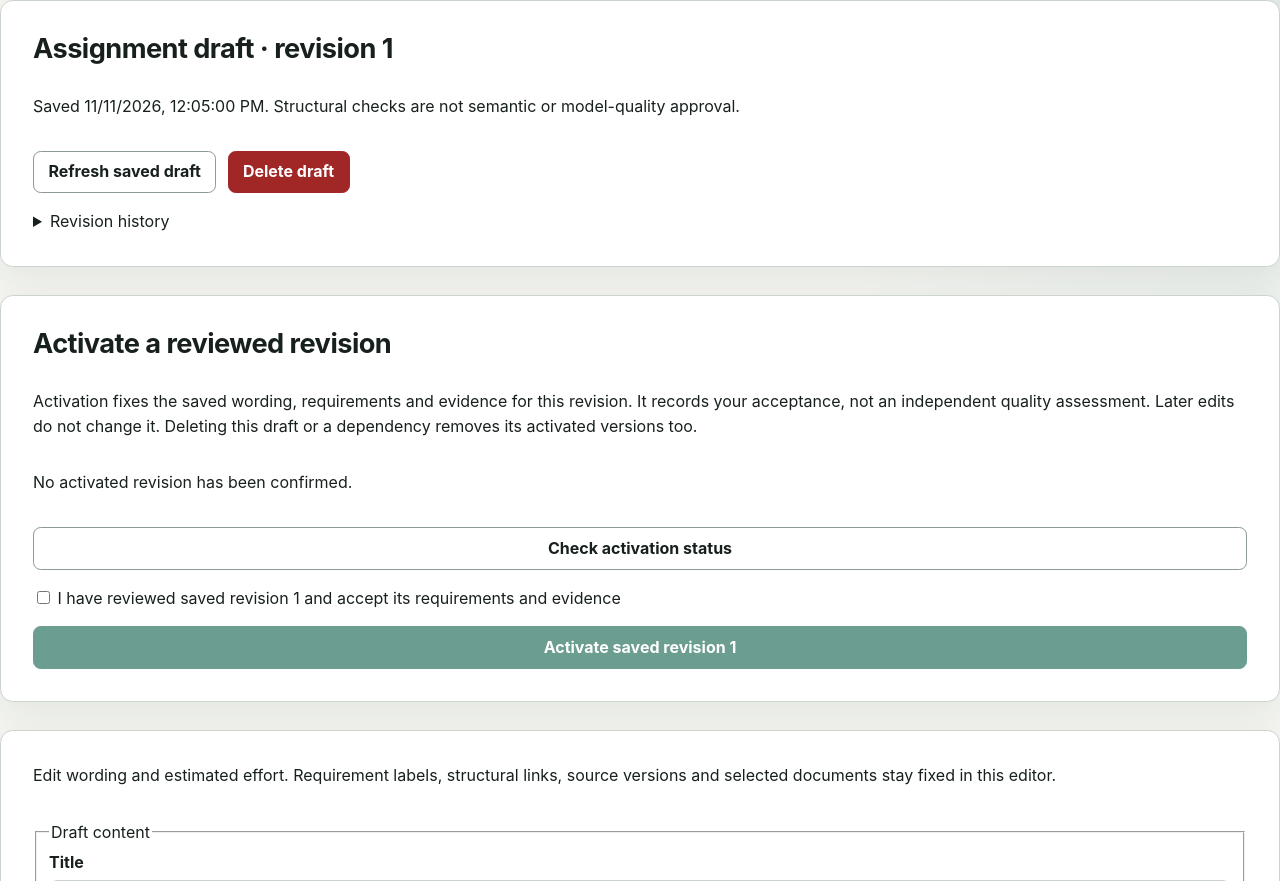
Test case: explicit reviewed assignment activation › checks activation status without sending another confirmation
The image size is (1280, 881).
Click the button "Check activation status". click: coordinates (640, 548)
box: [33,527,1247,570]
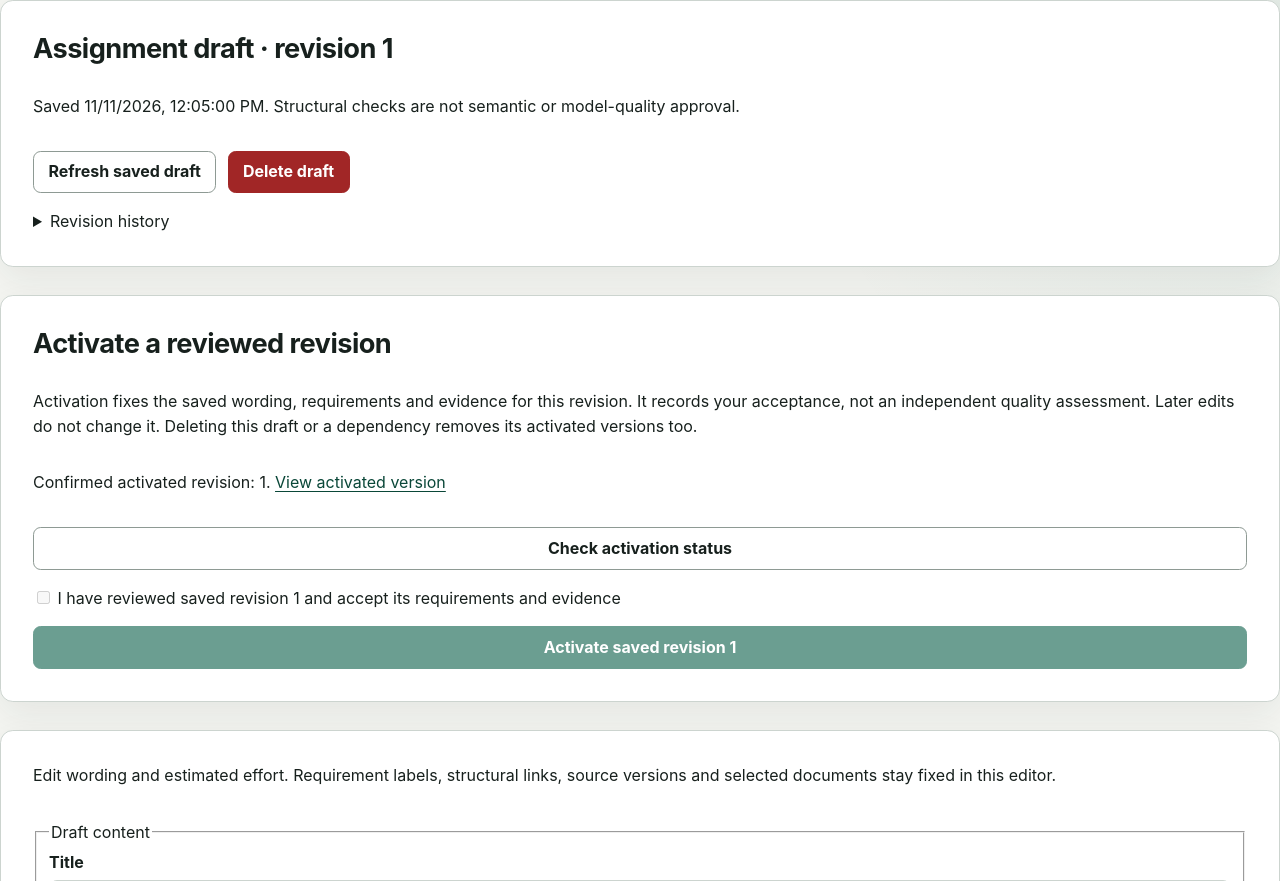
Now the link "View activated version" is shown, box [275,472,446,492]
